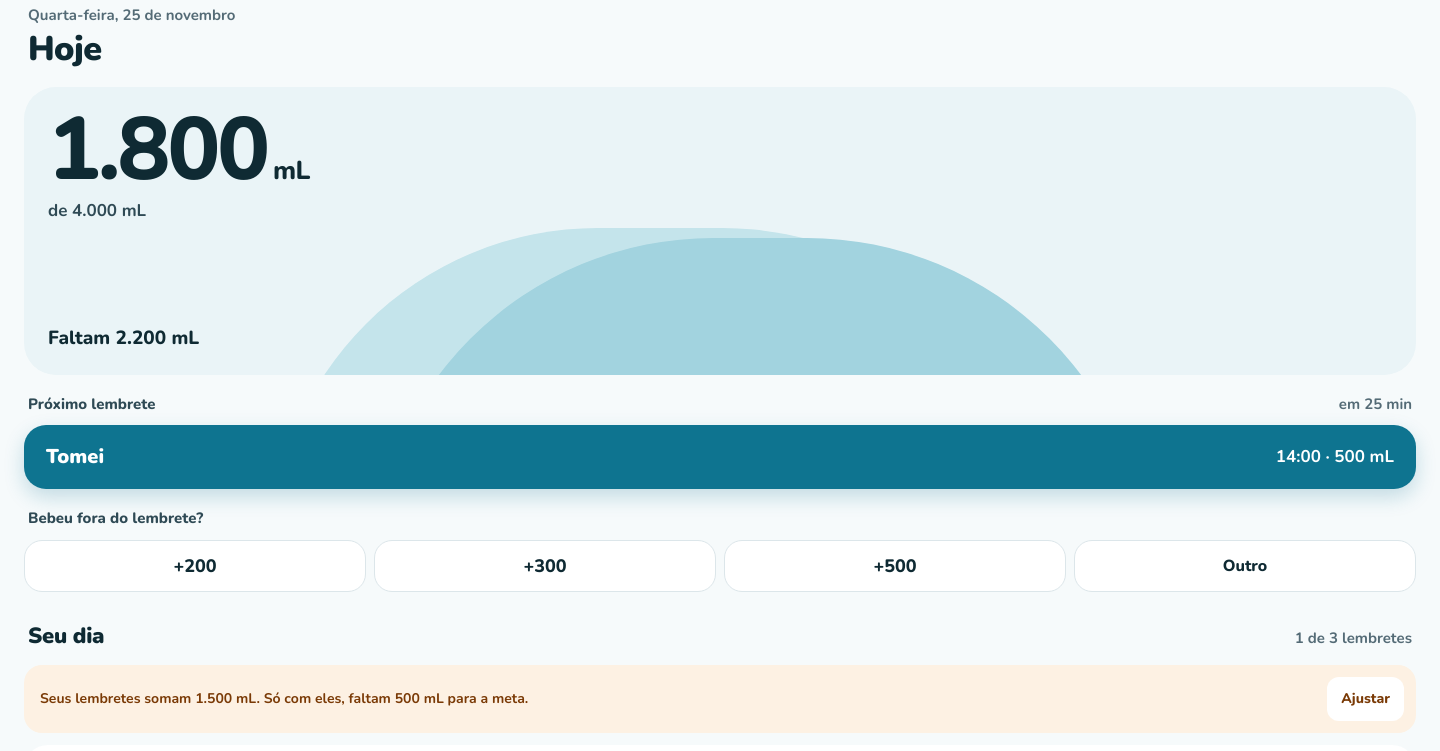
it: WaterTodayPage (design "Módulo Água") › tocar em Tomei registra o lembrete e mostra o aviso com Desfazer
Click the button "Tomei 14:00 · 500 mL". click: [75, 456]
box: [24,425,1416,489]
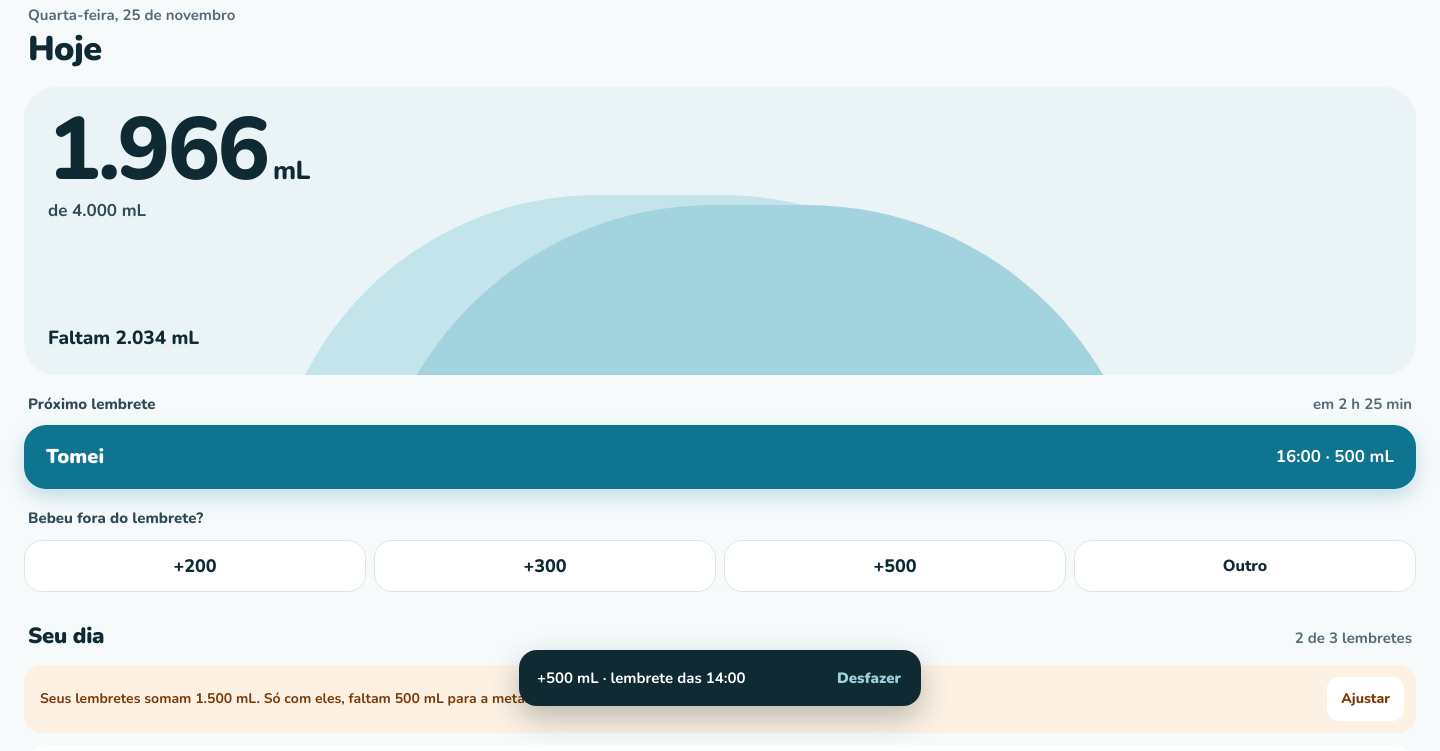
Check: the text "+500 mL · lembrete das 14:00" is shown, box [537,667,746,689]
Click the button "Desfazer". click: [869, 678]
box: [823,656,915,700]
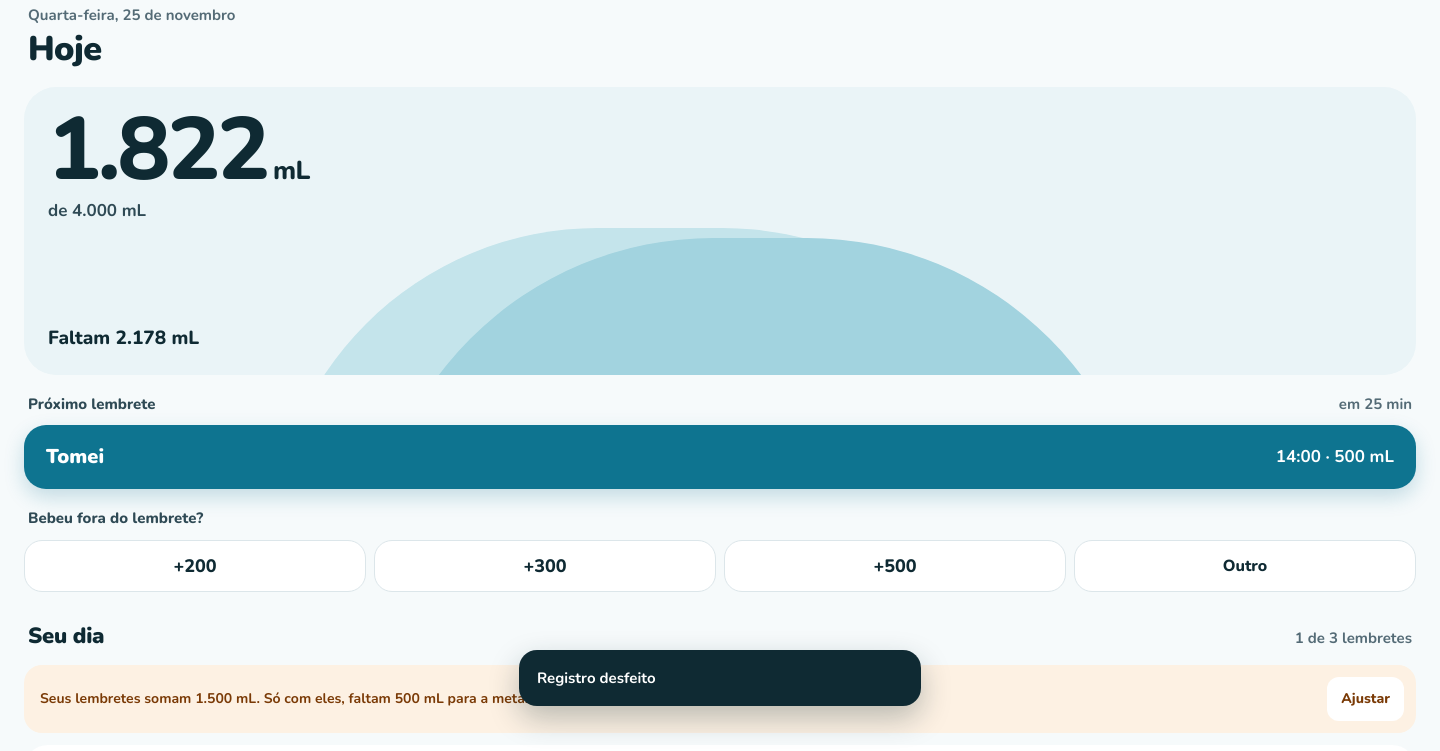
Check: the text "Registro desfeito" is shown, box [537,667,656,689]
